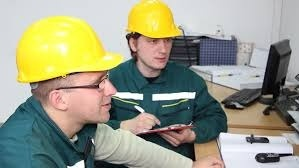helmet: (13, 14, 124, 86), (120, 1, 187, 47)
person with partial safety: (10, 15, 130, 166), (114, 2, 221, 156)
